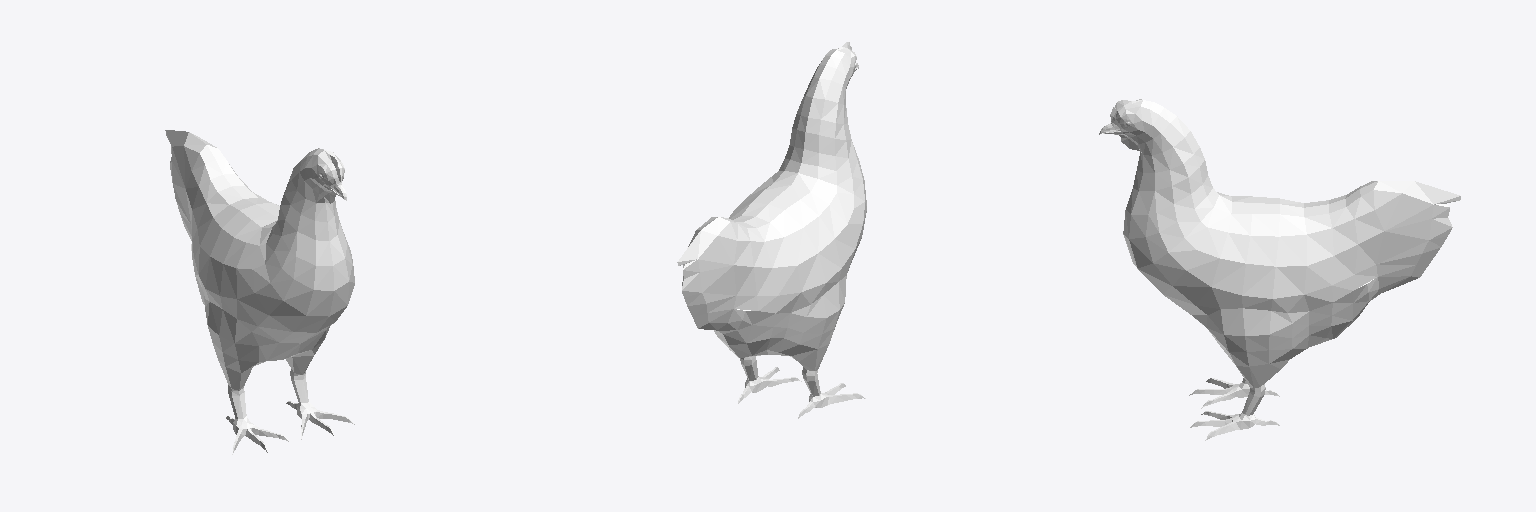
File: gallina.obj
3 renders of one model, left to right at view 1: azimuth 30°, elevation 25°; view 2: azimuth 150°, elevation 25°; view 3: azimuth 270°, elevation 25°, orthographic.
Parts seen in each view (by area): view 1: chicken(0); view 2: chicken(0); view 3: chicken(0).
Part boxes in pixels (x1,y1,x2,y2): chicken(0): (165,130,354,454); chicken(0): (677,42,866,418); chicken(0): (1099,99,1460,440).
Size of the model in its own units: 0.0566 by 0.1378 by 0.1446.